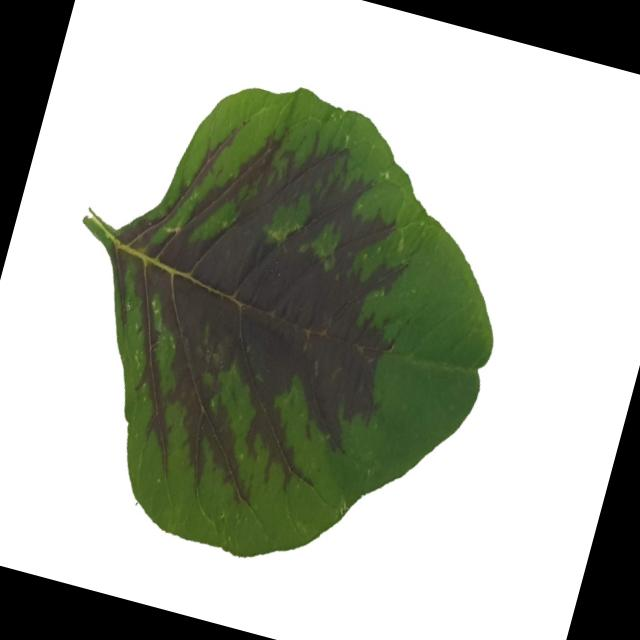Medicinal-Arive Dantu: (8, 36, 546, 612)
